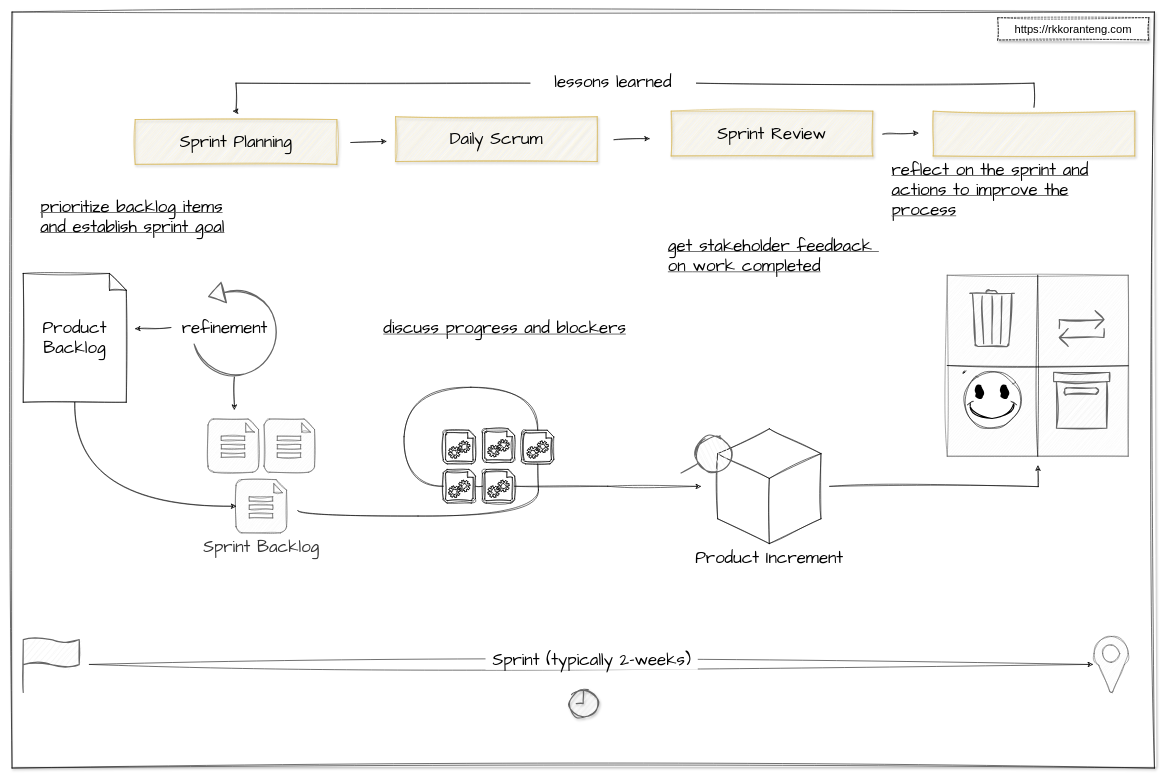
Some shapes in this 1168 by 782 pixel diagram are drawn without their labels. Here are the shapes that lost their labels. From the top down, the centre of each, then its label:
pixel 1034 134: Sprint Retro
pixel 51 664: start
pixel 1111 664: end
